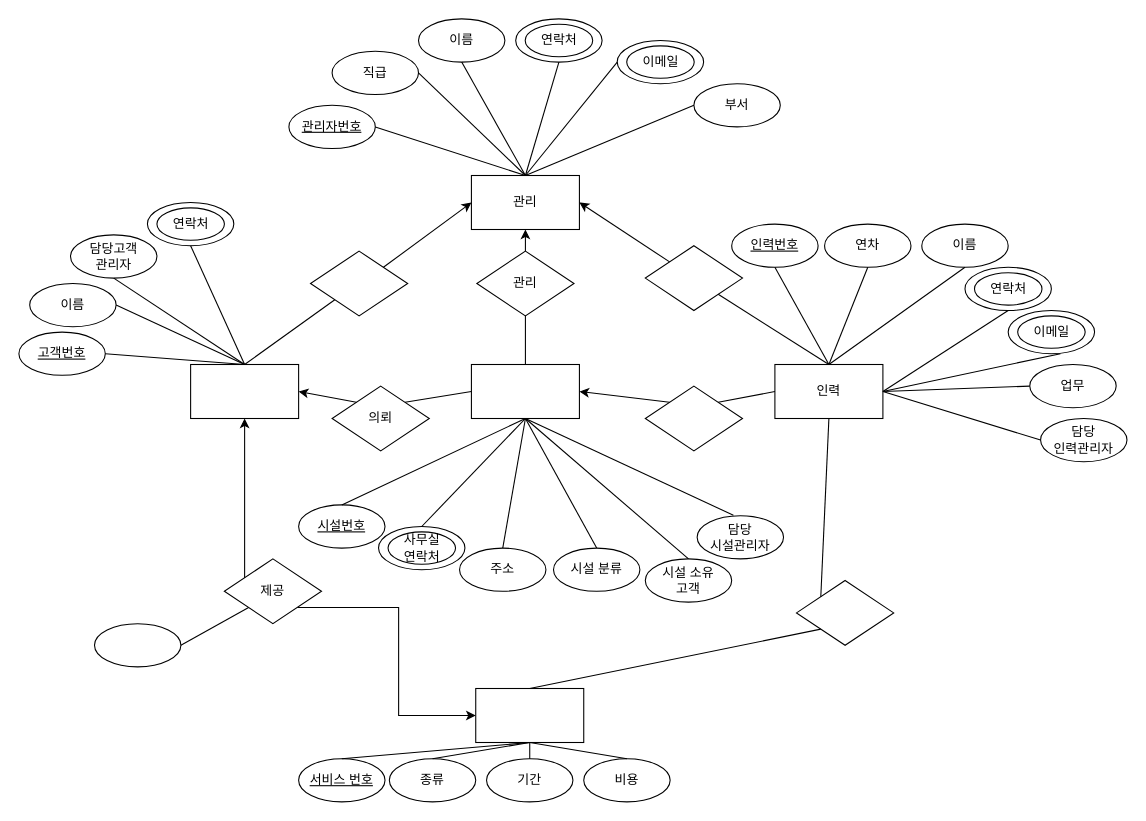
Image size: 1146x821. Some labels were removed from this diagram. Each missing label, with the centre of its shape:
"고객" belongs at [244,390].
"고용" belongs at [693,418].
"등록" belongs at [358,283].
"분류" belongs at [844,612].
"서비스" belongs at [529,714].
"시설" belongs at [524,390].
"의뢰 날짜" belongs at [137,645].
"파견" belongs at [693,277].
